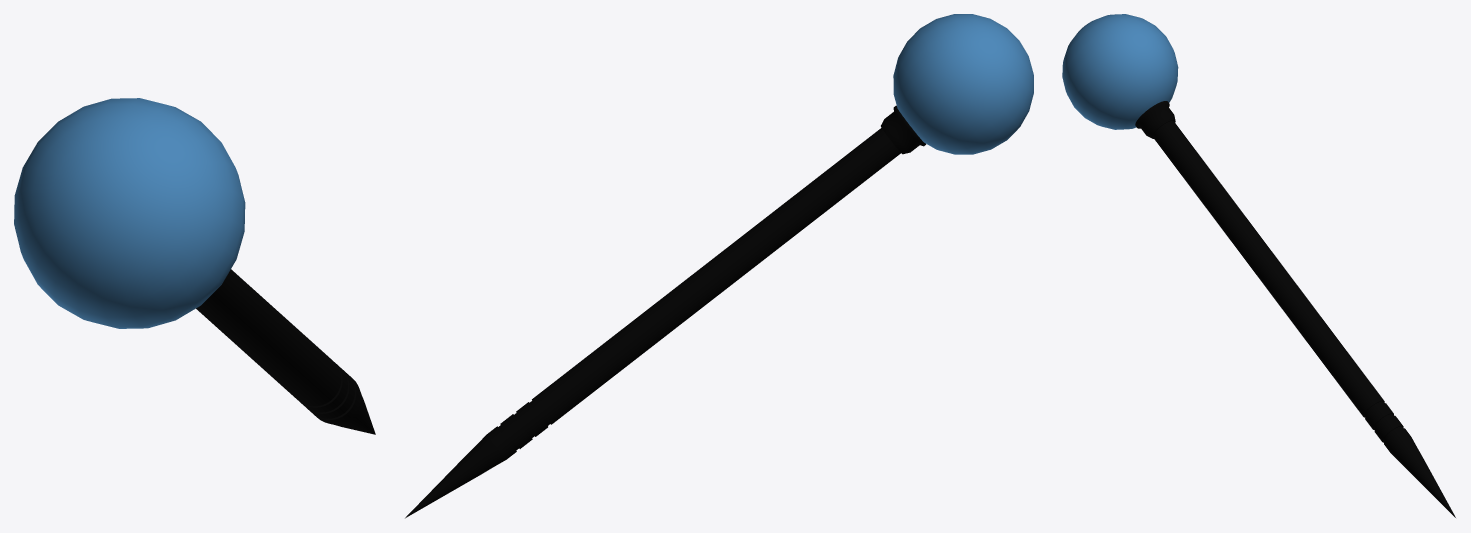
The model's file is STEELBLUE.glb.
The picture shows the model from 3 angles, left to right: view 1: azimuth 30°, elevation 25°; view 2: azimuth 150°, elevation 25°; view 3: azimuth 270°, elevation 25°; orthographic projection. The views are drawn at different scales.
Visible parts, largest first — view 1: Sphere, Needle; view 2: Needle, Sphere, Ball_Holder; view 3: Needle, Sphere, Ball_Holder.
Boxes of the visible parts, <box> form: Sphere: <box>14,98,245,328</box>; Needle: <box>196,269,375,434</box>; Needle: <box>405,128,900,518</box>; Sphere: <box>893,14,1033,154</box>; Ball_Holder: <box>881,105,926,154</box>; Needle: <box>1152,120,1455,517</box>; Sphere: <box>1062,14,1178,129</box>; Ball_Holder: <box>1135,101,1175,138</box>.
Bounding box in the file's own units: 7.45 × 7.45 × 7.45.
